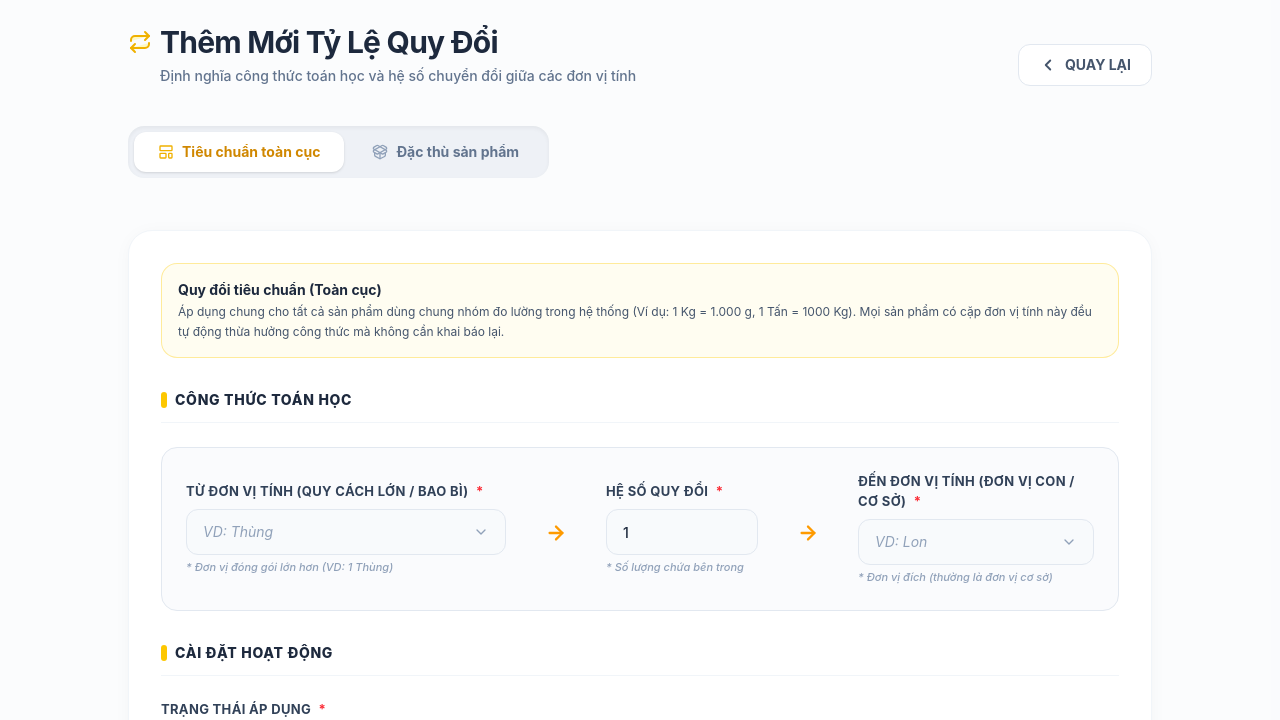
Test: Module 02 - UoMConversionForm Component › TC04 - Báo lỗi khi chọn ĐVT đích trùng với ĐVT nguồn
The width and height of the screenshot is (1280, 720).
Note: Mở dropdown From UoM
Click the text "VD: Thùng".
click(238, 532)  # box [203,522,273,542]
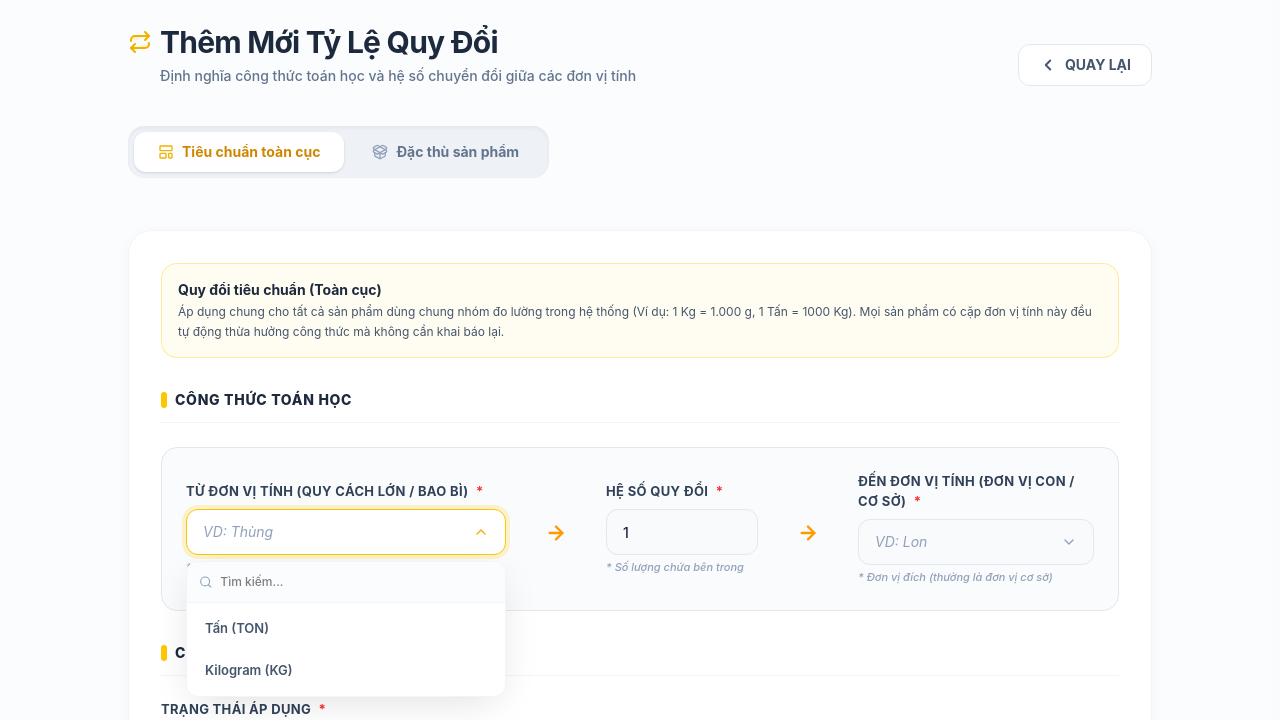
Expected: the text "Tấn (TON)" is shown
Click the text "Tấn (TON)".
click(237, 628)  # box [205,620,269,636]
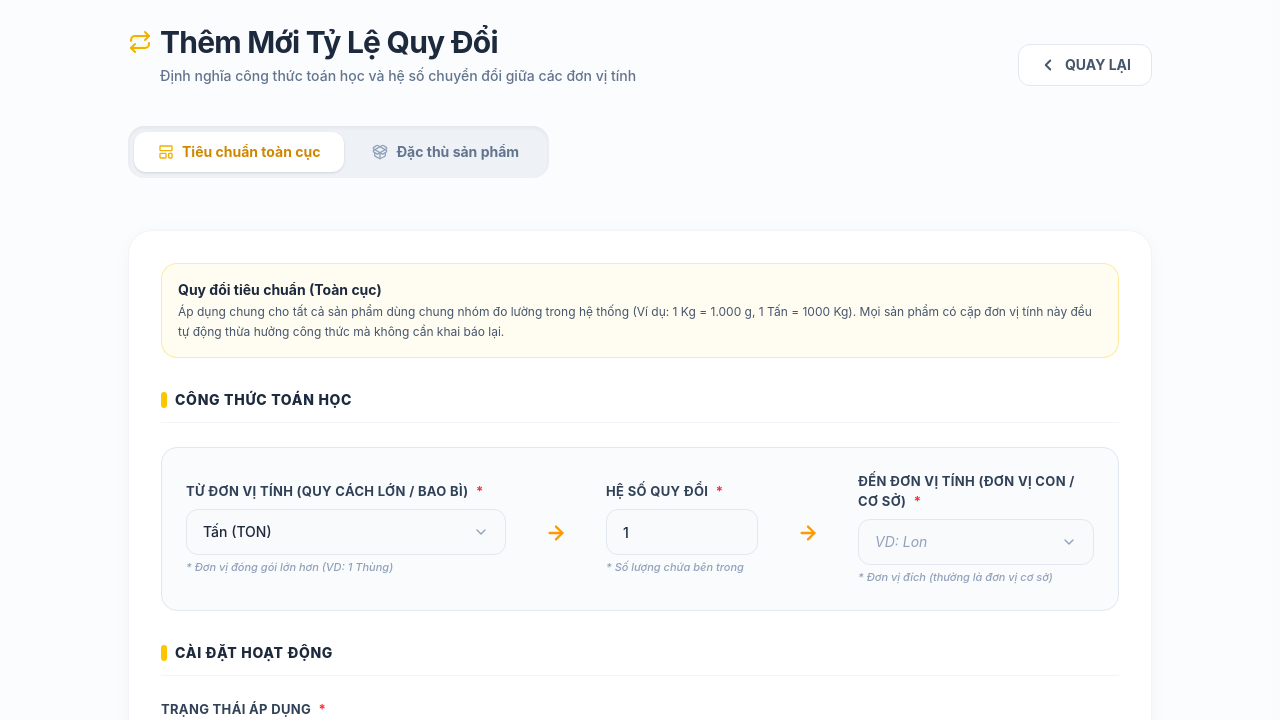
Note: Mở dropdown To UoM
Click the text "VD: Lon".
click(901, 542)  # box [875,532,927,552]
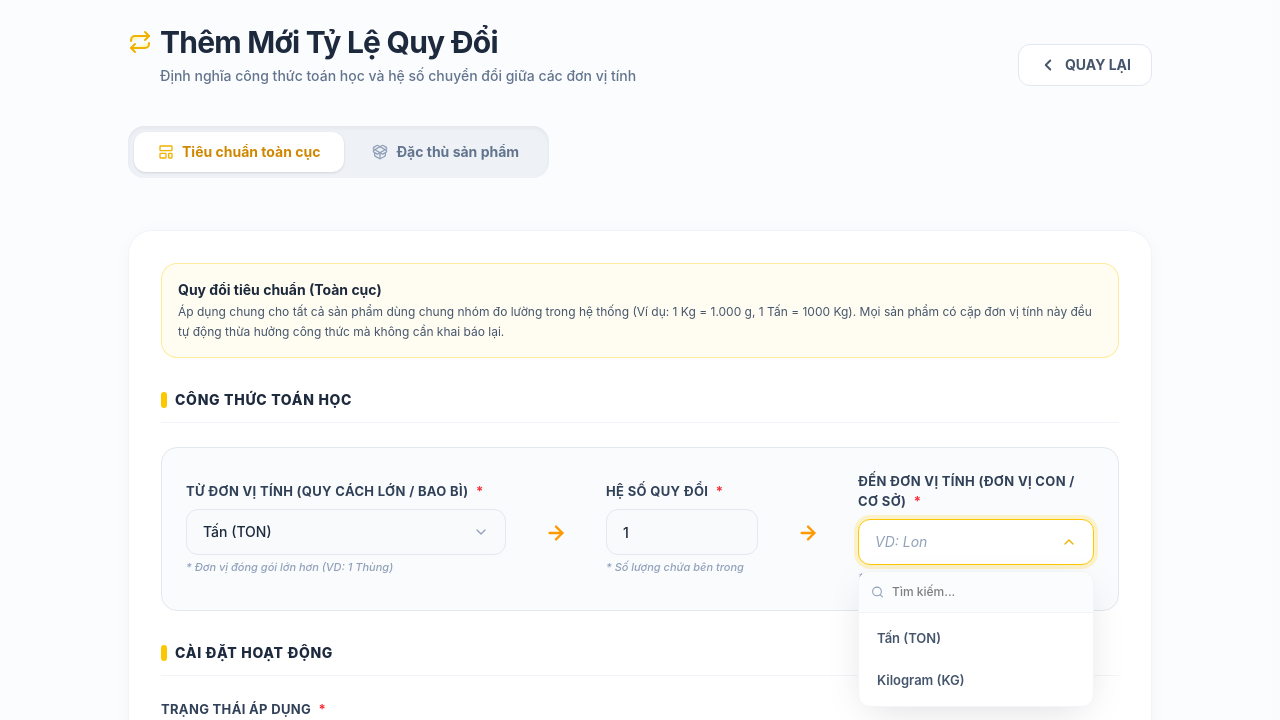
Click the text "Tấn (TON)" below "VD: Lon".
click(909, 638)  # box [877,630,941,646]
(page scrolled)
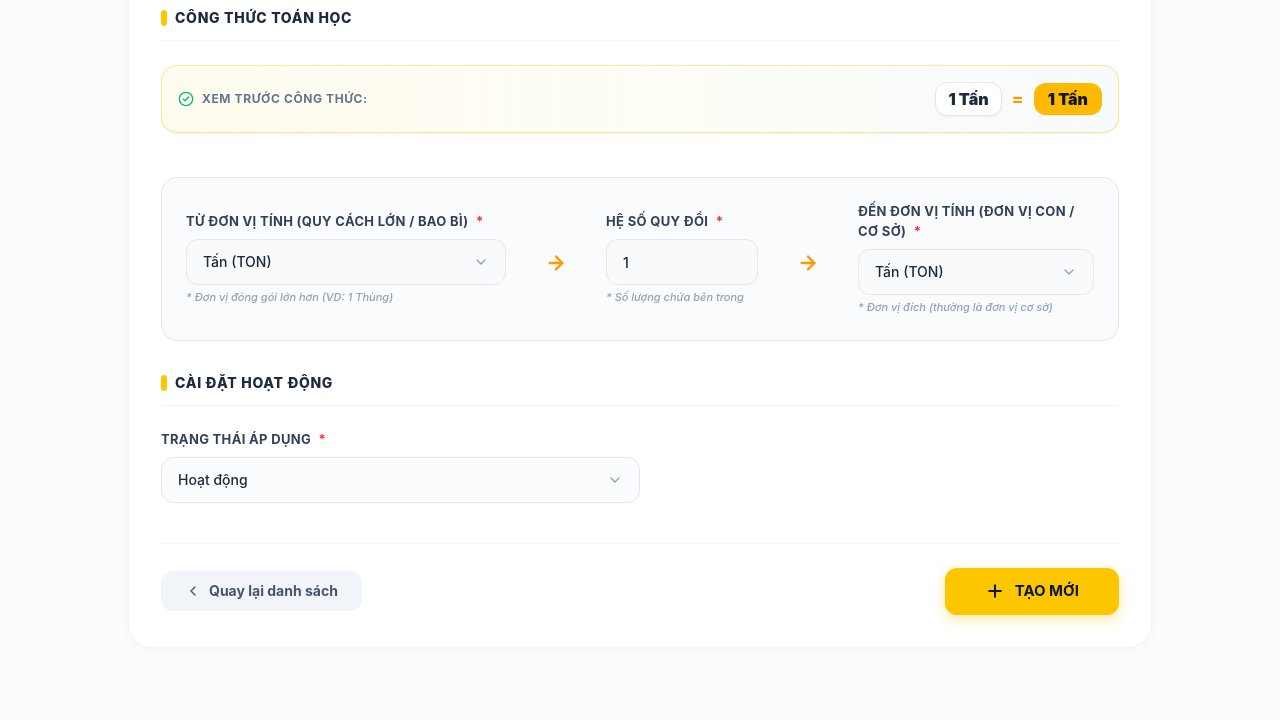
Click the button "TẠO MỚI".
click(1032, 591)  # box [945,568,1119,614]
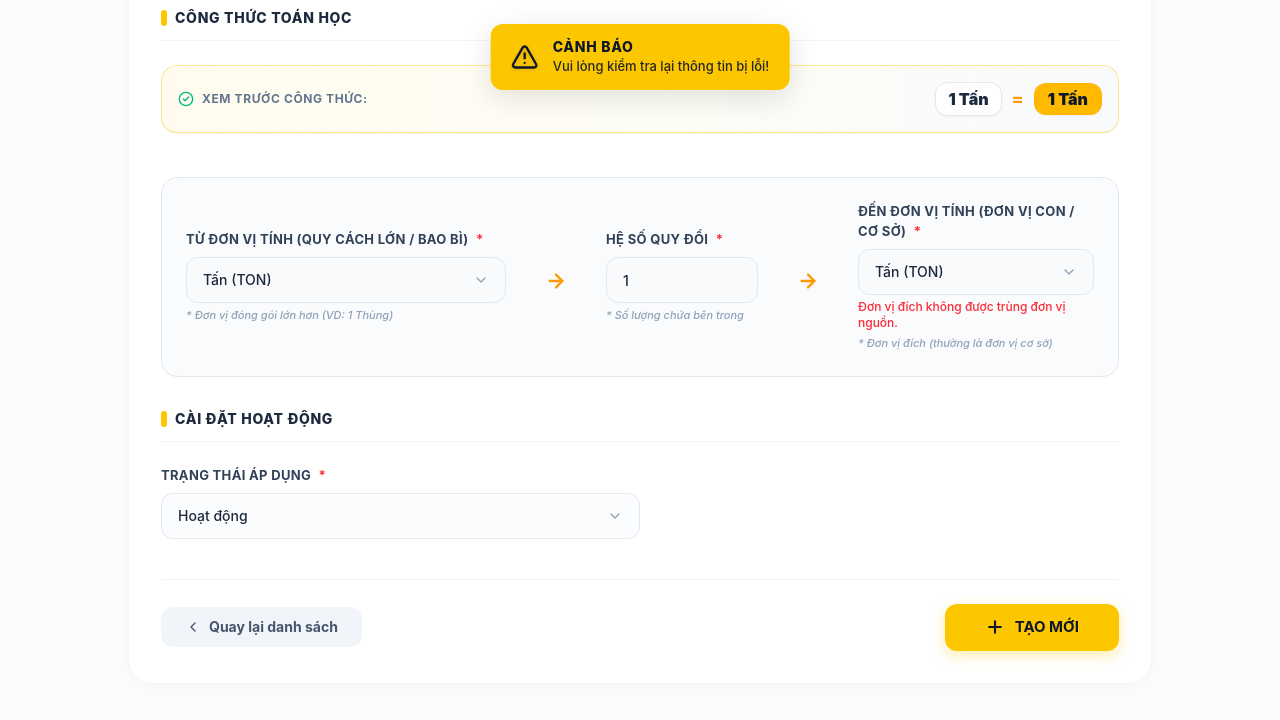
Expected: the text "Đơn vị đích không được trùng đơn vị nguồn." is shown, [858,299,1094,331]
